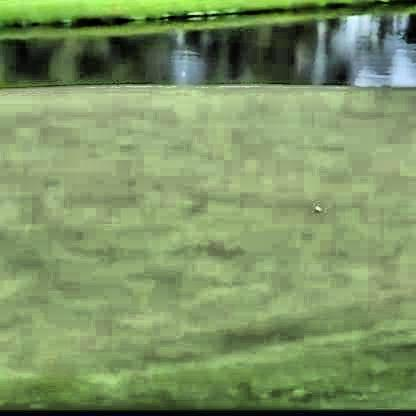golfball: (309, 206, 319, 211)
